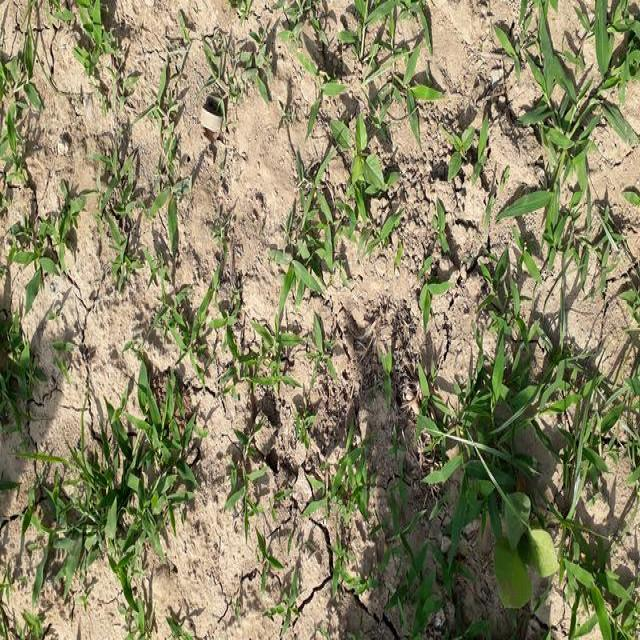weed: (412, 317, 627, 640), (269, 5, 439, 308), (23, 352, 198, 618), (482, 13, 640, 283), (0, 37, 86, 290), (322, 436, 412, 595), (138, 60, 190, 267), (105, 143, 147, 305), (150, 283, 224, 364), (195, 31, 272, 102), (222, 430, 274, 534), (1, 307, 42, 432), (233, 327, 297, 391), (65, 0, 123, 59), (310, 312, 342, 402), (450, 120, 480, 184), (374, 338, 400, 407), (278, 571, 306, 631), (210, 202, 236, 260), (258, 534, 274, 596), (167, 15, 190, 49)
